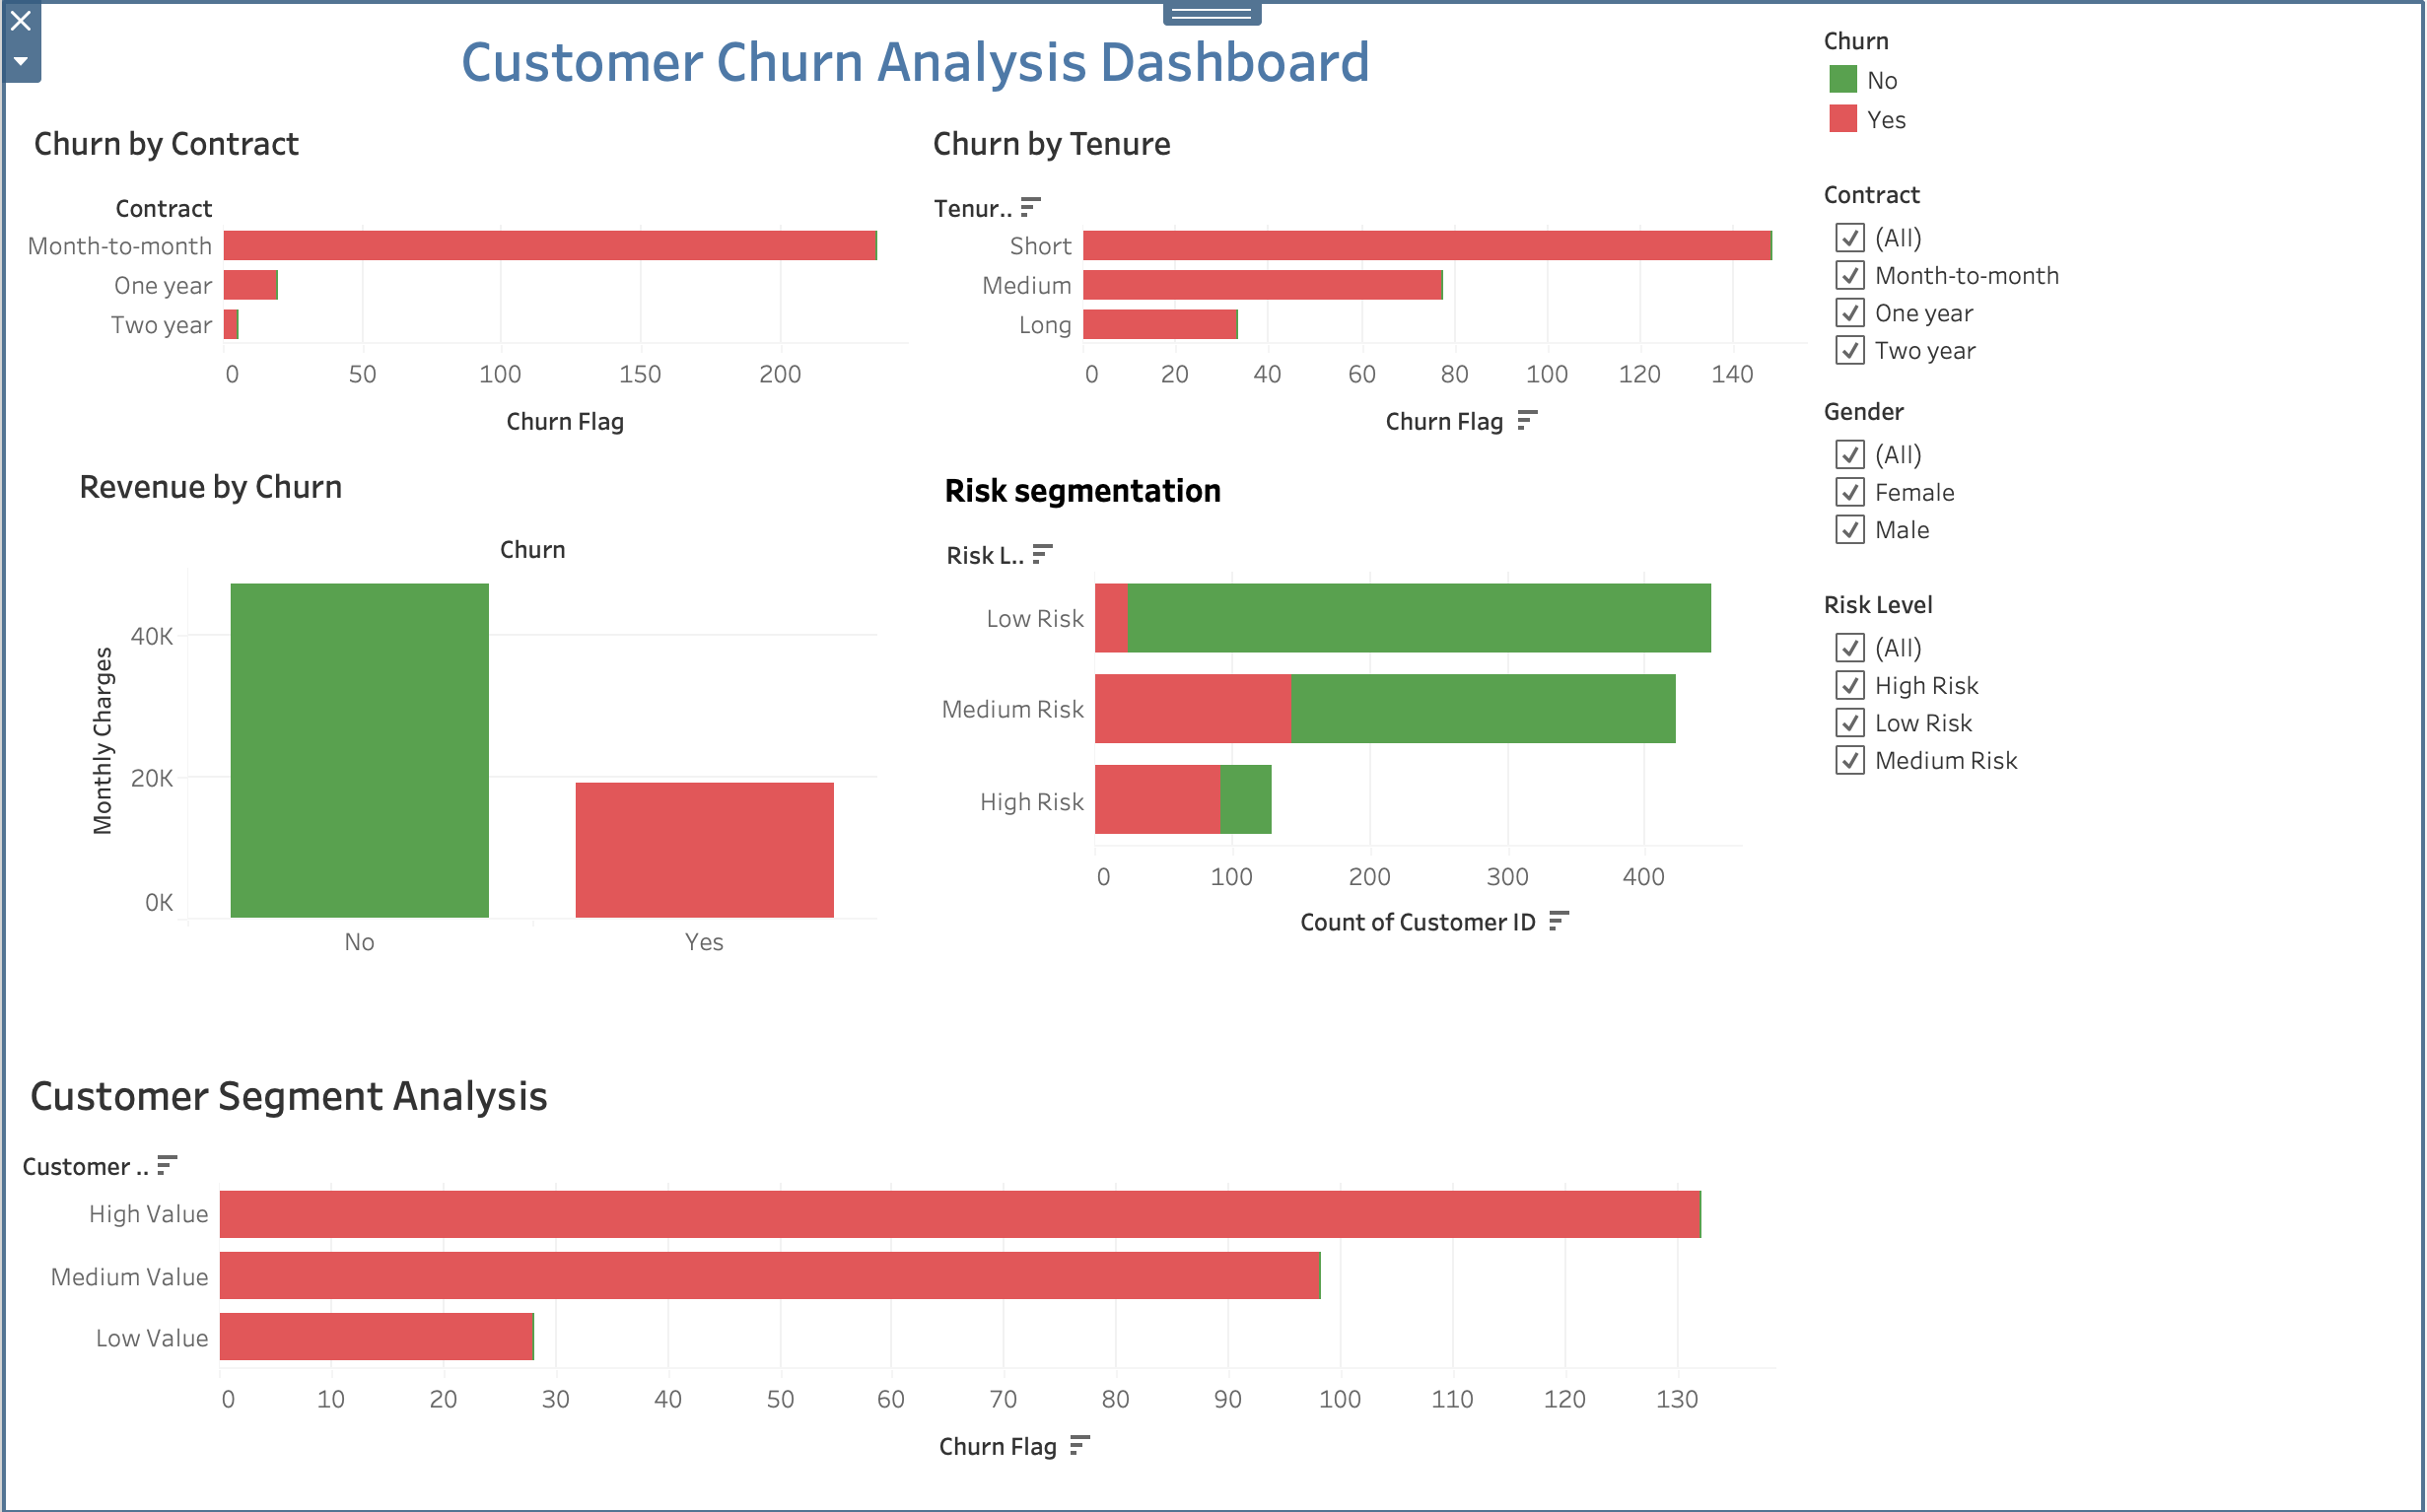

The dashboard page shown, as its layout file describes it:
{"tool":"tableau","page":{"name":"Dashboard ","canvas":[1000,1000],"units":"permille","ordinal":0},"visuals":[{"type":"title","box":[6.5,10.4,742.1,58.6]},{"type":"legend","title":"Churn by Contract","param":"[federated.1j3duu017arbrh1dxwnko1el29qr].[none:Churn:nk]","box":[748.6,10.4,244.9,101.6]},{"type":"worksheet","title":"Churn by Contract","mark":"Automatic","rows":["Contract"],"cols":["Calculation_4336122073761480704"],"box":[6.5,69,370.8,920.6]},{"type":"worksheet","title":"Churn by Tenure","mark":"Automatic","rows":["Calculation_4336122073761927170"],"cols":["Calculation_4336122073761480704"],"box":[377.3,69,371.3,920.6]},{"type":"filter","title":"Churn by Contract","param":"[federated.1j3duu017arbrh1dxwnko1el29qr].[none:Contract:nk]","box":[748.6,112,244.9,143.2]},{"type":"filter","title":"Churn by Contract","param":"[federated.1j3duu017arbrh1dxwnko1el29qr].[none:gender:nk]","box":[748.6,255.2,244.9,127.6]},{"type":"worksheet","title":"Revenue by Churn","mark":"Automatic","rows":["MonthlyCharges"],"cols":["Churn"],"box":[28.8,300.8,332.8,333.3]},{"type":"worksheet","title":"RISK SEGMENTATION","mark":"Automatic","rows":["risk_level"],"cols":["customerID"],"box":[385.7,303.4,332.8,325.5]},{"type":"filter","title":"Churn by Contract","param":"[federated.1j3duu017arbrh1dxwnko1el29qr].[none:risk_level:nk]","box":[748.6,382.8,244.9,152.3]},{"type":"worksheet","title":"Customer Segment Analysis","mark":"Automatic","rows":["Calculation_4336122073762050051"],"cols":["Calculation_4336122073761480704"],"box":[7.8,699.2,724.7,276]}]}

Visuals, with their boxes on the dashboard's canvas, which has no fixed pixel size, in thousandths of its width and height (x1, y1, x2, y2). These are canvas units, not pixel positions in the 2427x1512 screenshot, which may show the page scaled, cropped or inside an application window:
title: (x1=6, y1=10, x2=749, y2=69)
"Churn by Contract" legend: (x1=749, y1=10, x2=994, y2=112)
"Churn by Contract" worksheet: (x1=6, y1=69, x2=377, y2=990)
"Churn by Tenure" worksheet: (x1=377, y1=69, x2=749, y2=990)
"Churn by Contract" filter: (x1=749, y1=112, x2=994, y2=255)
"Churn by Contract" filter: (x1=749, y1=255, x2=994, y2=383)
"Revenue by Churn" worksheet: (x1=29, y1=301, x2=362, y2=634)
"RISK SEGMENTATION" worksheet: (x1=386, y1=303, x2=718, y2=629)
"Churn by Contract" filter: (x1=749, y1=383, x2=994, y2=535)
"Customer Segment Analysis" worksheet: (x1=8, y1=699, x2=732, y2=975)
